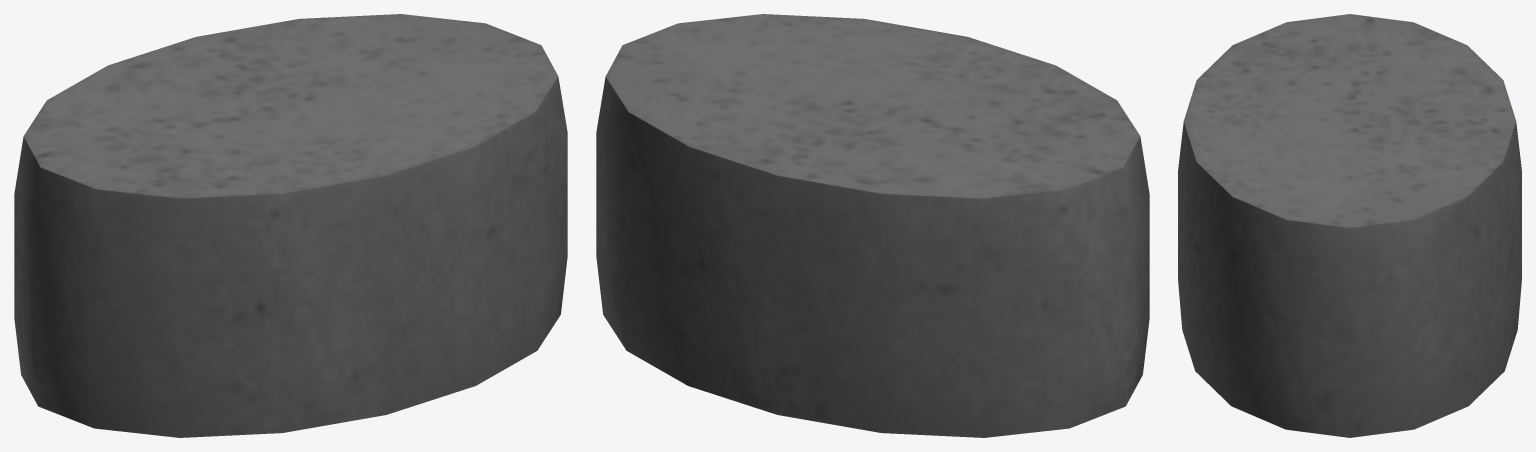
Rendered from wm_pelagir_sword_a02_guard.fbx.
The picture shows the model from 3 angles, left to right: view 1: azimuth 30°, elevation 25°; view 2: azimuth 150°, elevation 25°; view 3: azimuth 270°, elevation 25°; orthographic projection. The views are drawn at different scales.
Visible parts, largest first — view 1: wm_pelagir_sword_a02_guard; view 2: wm_pelagir_sword_a02_guard; view 3: wm_pelagir_sword_a02_guard.
Boxes of the visible parts, x1=… form: wm_pelagir_sword_a02_guard: x1=14, y1=14, x2=567, y2=437; wm_pelagir_sword_a02_guard: x1=596, y1=14, x2=1149, y2=437; wm_pelagir_sword_a02_guard: x1=1178, y1=14, x2=1521, y2=437.
Bounding box in the file's own units: 0.0773 × 0.0507 × 0.034.
Materials: 1 (1 with a texture image).
